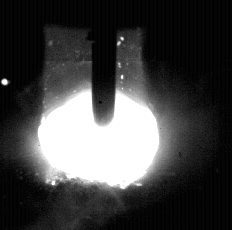arame: (93, 0, 116, 126)
poca: (37, 0, 161, 230)
